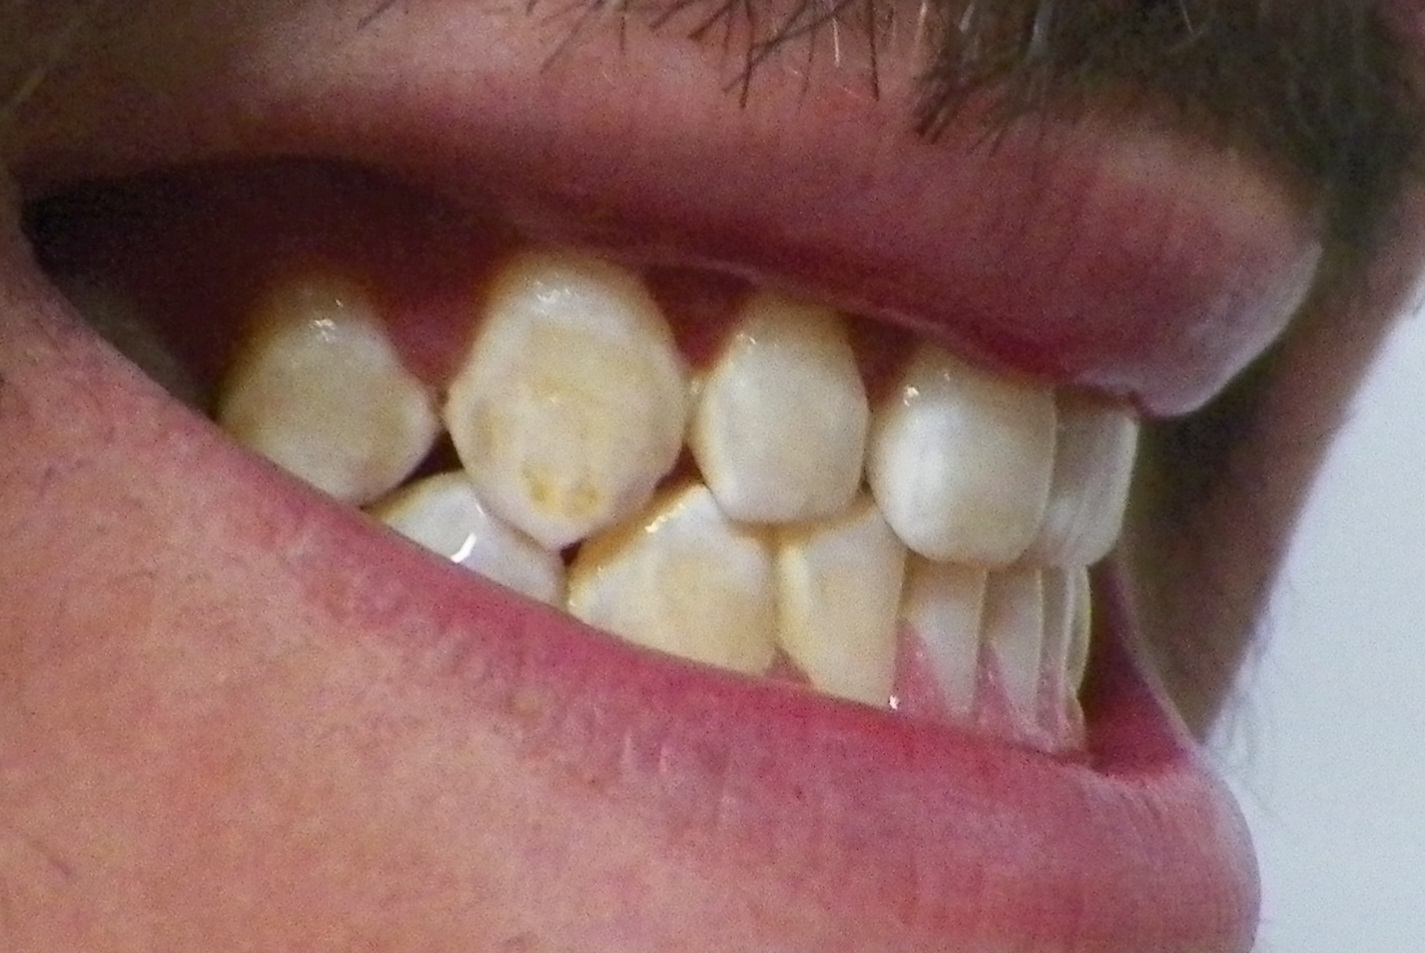boca: (231, 254, 1151, 746)
